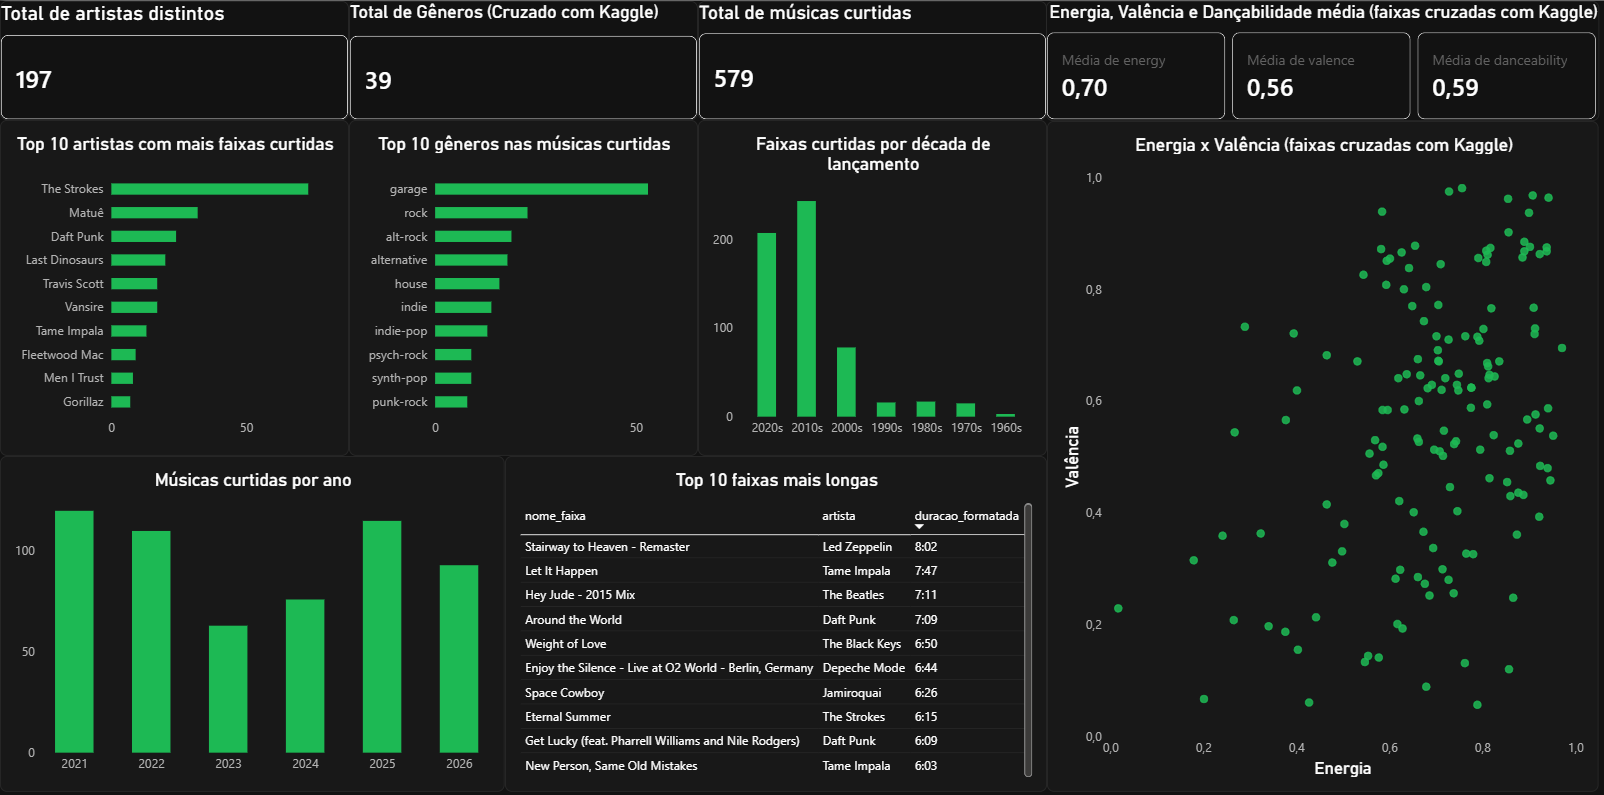

The page's visual inventory and layout, read from the dashboard file:
{"tool":"powerbi","page":{"name":"Página 1","canvas":[1920,1080],"ordinal":0},"visuals":[{"type":"cardVisual","title":"Total de músicas curtidas","fields":{"Data":["CountNonNull(public saved_tracks.nome_faixa)"]},"box":[802,0,401,137],"z":0},{"type":"cardVisual","title":"Total de artistas distintos","fields":{"Data":["Count(public saved_tracks.artista)"]},"box":[0,0,401,137],"z":1000},{"type":"clusteredBarChart","title":"Top 10 artistas com mais faixas curtidas","fields":{"Category":["public saved_tracks.artista"],"Y":["CountNonNull(public saved_tracks.nome_faixa)"]},"box":[0,137,401,386],"z":2000},{"type":"clusteredColumnChart","title":"Faixas curtidas por década de lançamento","fields":{"Category":["public saved_tracks.Decada"],"Y":["CountNonNull(public saved_tracks.nome_faixa)"]},"box":[802,137,401,386],"z":3000},{"type":"clusteredColumnChart","title":"Músicas curtidas por ano","fields":{"Category":["public saved_tracks_enriquecido.curtida_em.Variation.Hierarquia de datas.Ano"],"Y":["Count(public saved_tracks_enriquecido.nome_faixa)"]},"box":[0,523,580,386],"z":4000},{"type":"cardVisual","title":"Total de Gêneros (Cruzado com Kaggle)","fields":{"Data":["Count(public saved_tracks_generos.genero)"]},"box":[401,0,401,137],"z":5000},{"type":"clusteredBarChart","title":"Top 10 gêneros nas músicas curtidas","fields":{"Category":["public saved_tracks_generos.genero"],"Y":["CountNonNull(public saved_tracks_generos.nome_faixa)"]},"box":[401,137,401,386],"z":6000},{"type":"tableEx","title":"Top 10 faixas mais longas","fields":{"Values":["public saved_tracks.nome_faixa","public saved_tracks.artista","public saved_tracks.duracao_formatada"]},"box":[580,523,623,386],"z":7000},{"type":"cardVisual","title":"Energia, Valência e Dançabilidade média (faixas cruzadas com Kaggle)","fields":{"Data":["Avg(public saved_tracks_enriquecido.energy)","Avg(public saved_tracks_enriquecido.valence)","Avg(public saved_tracks_enriquecido.danceability)"]},"box":[1202.3,0,635.6,137.9],"z":8000},{"type":"scatterChart","title":"Energia x Valência (faixas cruzadas com Kaggle)","fields":{"Category":["public saved_tracks_enriquecido.nome_faixa"],"X":["Avg(public saved_tracks_enriquecido.energy)"],"Y":["Avg(public saved_tracks_enriquecido.valence)"]},"box":[1203.4,137.9,634.5,771.3],"z":10000}]}

Visuals, with their boxes on the page's 1920x1080 design canvas (x1, y1, x2, y2). These are canvas units, not pixel positions in the 1604x795 screenshot, which may show the page scaled, cropped or inside an application window:
"Total de músicas curtidas" cardVisual: select_region(802, 0, 1203, 137)
"Total de artistas distintos" cardVisual: select_region(0, 0, 401, 137)
"Top 10 artistas com mais faixas curtidas" clusteredBarChart: select_region(0, 137, 401, 523)
"Faixas curtidas por década de lançamento" clusteredColumnChart: select_region(802, 137, 1203, 523)
"Músicas curtidas por ano" clusteredColumnChart: select_region(0, 523, 580, 909)
"Total de Gêneros (Cruzado com Kaggle)" cardVisual: select_region(401, 0, 802, 137)
"Top 10 gêneros nas músicas curtidas" clusteredBarChart: select_region(401, 137, 802, 523)
"Top 10 faixas mais longas" tableEx: select_region(580, 523, 1203, 909)
"Energia, Valência e Dançabilidade média (faixas cruzadas com Kaggle)" cardVisual: select_region(1202, 0, 1838, 138)
"Energia x Valência (faixas cruzadas com Kaggle)" scatterChart: select_region(1203, 138, 1838, 909)
